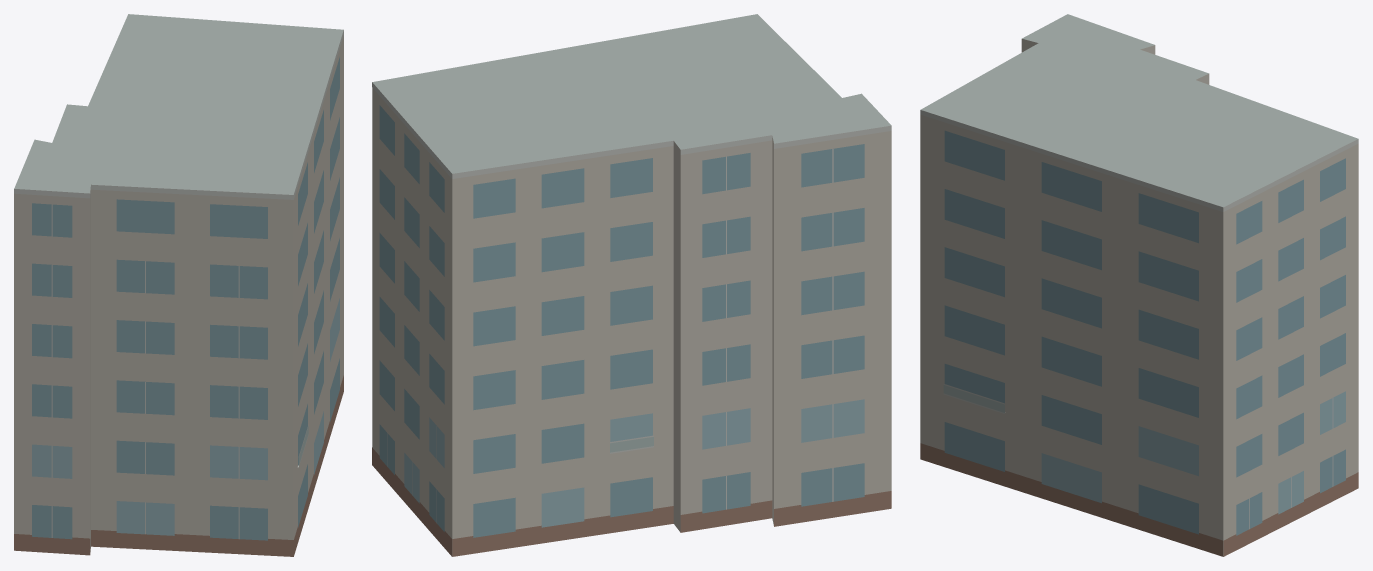
The model's file is survey-upis-32665322.glb.
3 renders of one model, left to right at view 1: azimuth 30°, elevation 25°; view 2: azimuth 150°, elevation 25°; view 3: azimuth 270°, elevation 25°, orthographic. The views are drawn at different scales.
Parts seen in each view (by area): view 1: survey-upis-32665322.tmp; view 2: survey-upis-32665322.tmp; view 3: survey-upis-32665322.tmp.
Boxes of the visible parts, bbox=[...] form: survey-upis-32665322.tmp: bbox=[14, 14, 343, 556]; survey-upis-32665322.tmp: bbox=[372, 14, 891, 556]; survey-upis-32665322.tmp: bbox=[920, 14, 1358, 556].
Bounding box in the file's own units: 21.25 × 17.9 × 20.35.
